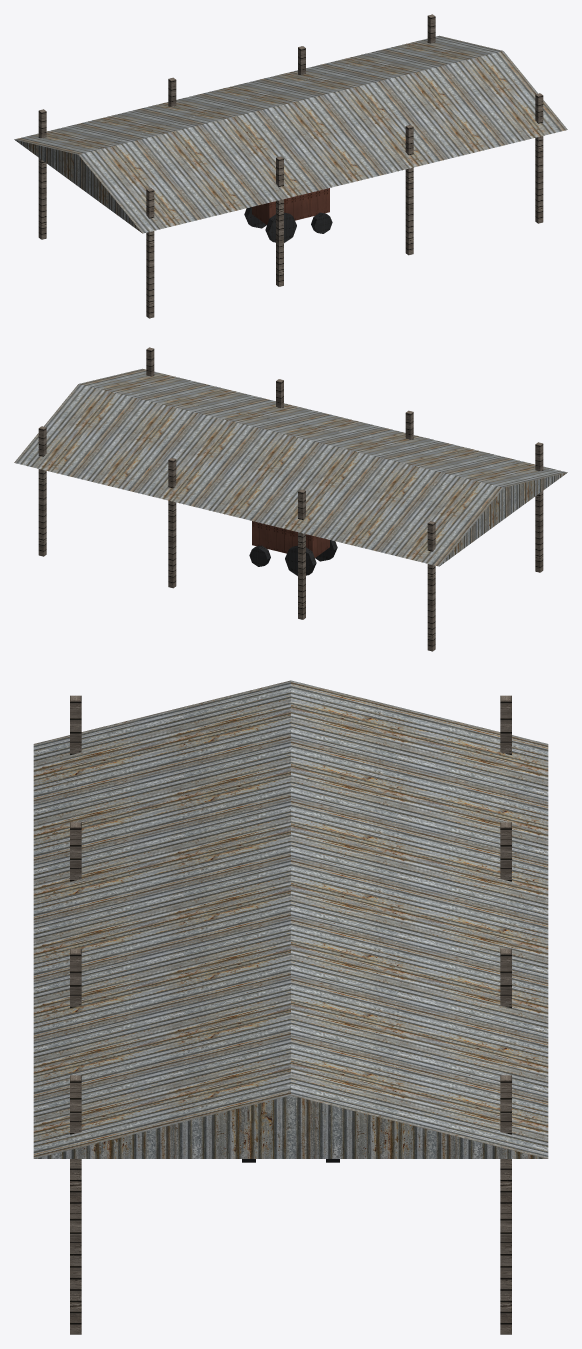
The model's file is tractor-shed_lod0.gltf.
3 views of the same model, one above another, from view 1: azimuth 30°, elevation 25°; view 2: azimuth 150°, elevation 25°; view 3: azimuth 270°, elevation 25° (orthographic). The views are drawn at different scales.
Visible parts, largest first — view 1: tractor-shed_roof, tractor-shed__tractor_body, tractor-shed__post_0_0, tractor-shed__post_2_0, tractor-shed__post_3_0, tractor-shed__post_0_1, tractor-shed__post_1_0, tractor-shed__tractor_wheel_rl; view 2: tractor-shed_roof, tractor-shed__tractor_body, tractor-shed__post_0_1, tractor-shed__post_2_1, tractor-shed__post_3_1, tractor-shed__post_0_0, tractor-shed__post_1_1, tractor-shed__tractor_wheel_rr; view 3: tractor-shed_roof, tractor-shed__post_3_0, tractor-shed__post_3_1.
Part boxes in pixels (x1=…): tractor-shed_roof: x1=14, y1=35, x2=567, y2=233; tractor-shed__tractor_body: x1=252, y1=188, x2=329, y2=224; tractor-shed__post_0_0: x1=146, y1=188, x2=154, y2=318; tractor-shed__post_2_0: x1=405, y1=125, x2=413, y2=255; tractor-shed__post_3_0: x1=535, y1=93, x2=543, y2=223; tractor-shed__post_0_1: x1=38, y1=109, x2=46, y2=239; tractor-shed__post_1_0: x1=276, y1=156, x2=283, y2=286; tractor-shed__tractor_wheel_rl: x1=265, y1=212, x2=296, y2=242; tractor-shed_roof: x1=14, y1=368, x2=567, y2=566; tractor-shed__tractor_body: x1=252, y1=521, x2=329, y2=557; tractor-shed__post_0_1: x1=427, y1=521, x2=435, y2=651; tractor-shed__post_2_1: x1=168, y1=458, x2=176, y2=588; tractor-shed__post_3_1: x1=38, y1=426, x2=46, y2=556; tractor-shed__post_0_0: x1=535, y1=442, x2=543, y2=572; tractor-shed__post_1_1: x1=298, y1=489, x2=305, y2=619; tractor-shed__tractor_wheel_rr: x1=285, y1=545, x2=316, y2=575; tractor-shed_roof: x1=33, y1=680, x2=548, y2=1158; tractor-shed__post_3_0: x1=70, y1=1075, x2=81, y2=1334; tractor-shed__post_3_1: x1=500, y1=1075, x2=511, y2=1334.
Size of the model in its own units: 21 by 6 by 11.
